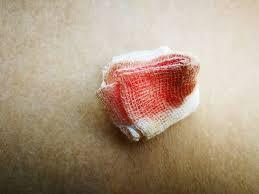cotton: (97, 47, 198, 140)
